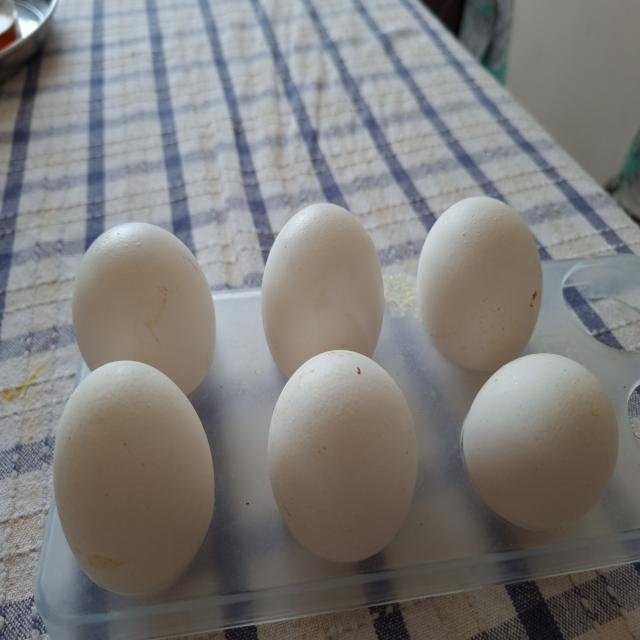Egg: (50, 357, 221, 605), (266, 350, 420, 566), (459, 353, 620, 535), (70, 222, 218, 402), (415, 196, 545, 381), (260, 204, 387, 385)
